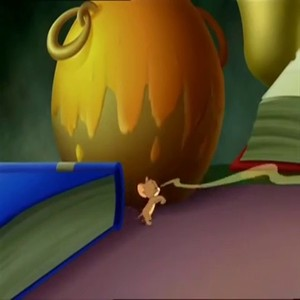Jerry: (133, 175, 165, 229)
